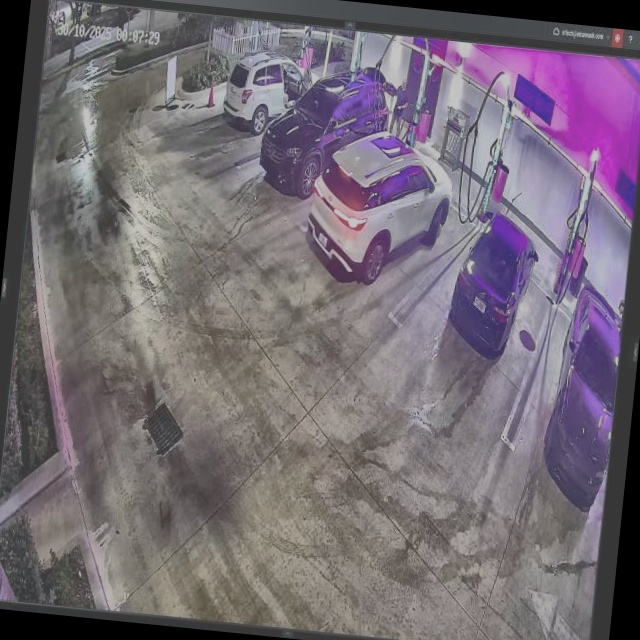Car: (303, 125, 458, 293), (258, 57, 394, 199), (447, 209, 542, 358)
